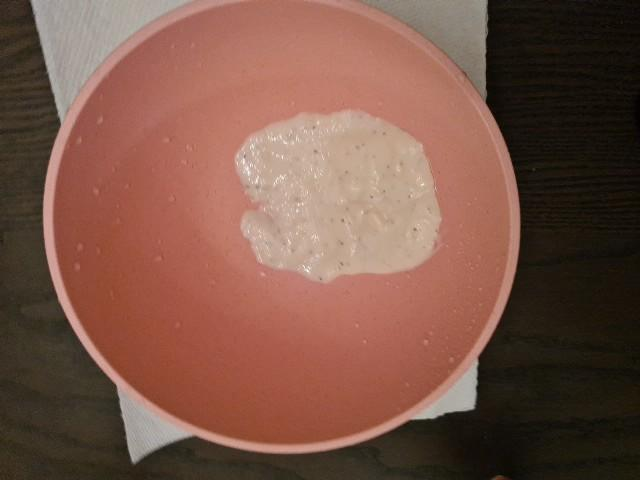kichen waste: (235, 110, 441, 282)
